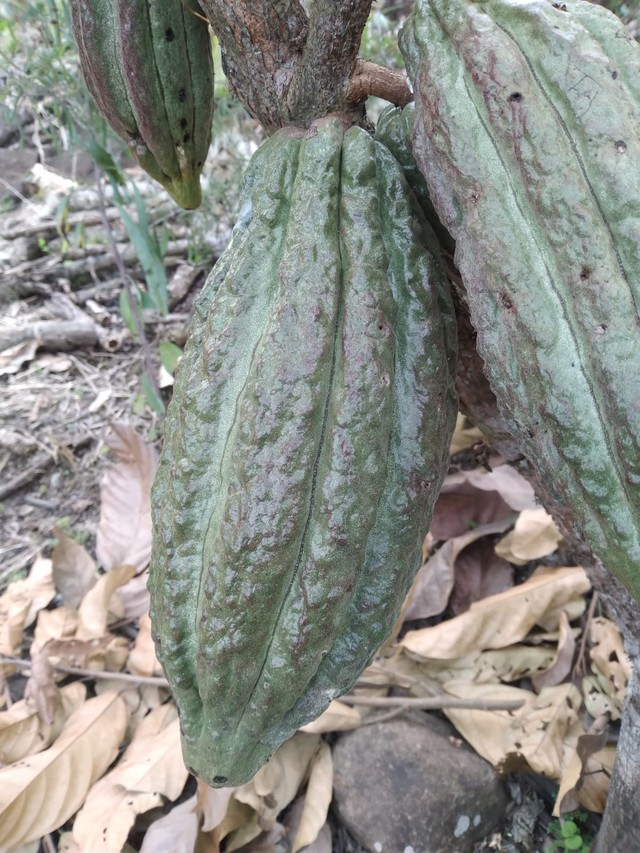Health: (145, 113, 468, 795)
